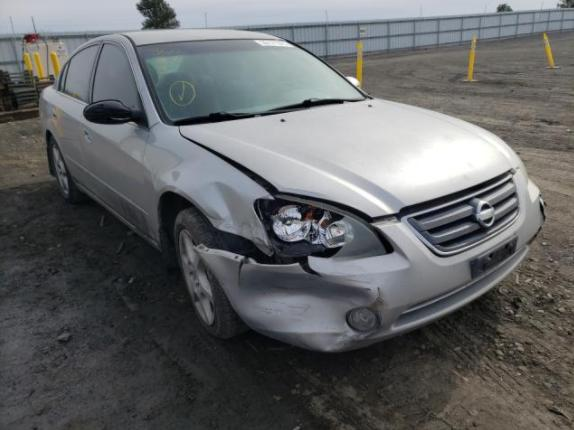Back-door: (51, 45, 99, 189)
Back-wheel: (49, 135, 88, 203)
Back-window: (58, 45, 99, 103)
Fender: (142, 121, 275, 256)
Front-bumper: (193, 161, 547, 352)
Front-door: (79, 40, 153, 238)
Front-wheel: (174, 206, 261, 339)
Front-window: (93, 44, 147, 128)
Grille: (399, 172, 520, 256)
Headlight: (254, 197, 391, 259)
Hood: (178, 99, 521, 217)
License-plate: (468, 234, 519, 281)
Mirror: (83, 100, 146, 128), (346, 77, 359, 88)
Quarter-panel: (40, 86, 58, 169)
Rocker-panel: (73, 178, 163, 254)
Roof: (110, 28, 285, 46)
Windshield: (135, 38, 365, 126)
